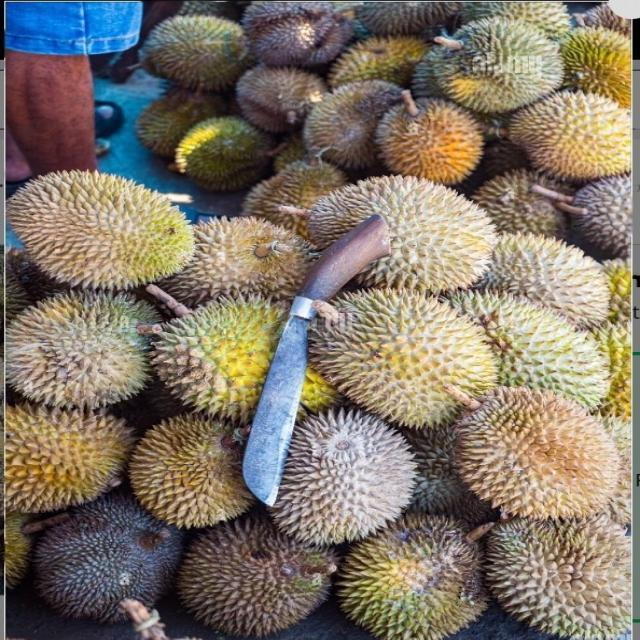defective: (337, 511, 495, 639), (36, 497, 182, 624), (182, 522, 340, 636)
